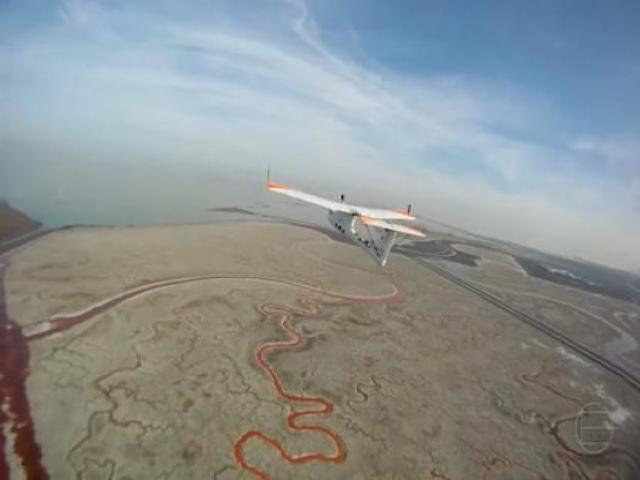uav: (262, 172, 430, 278)
